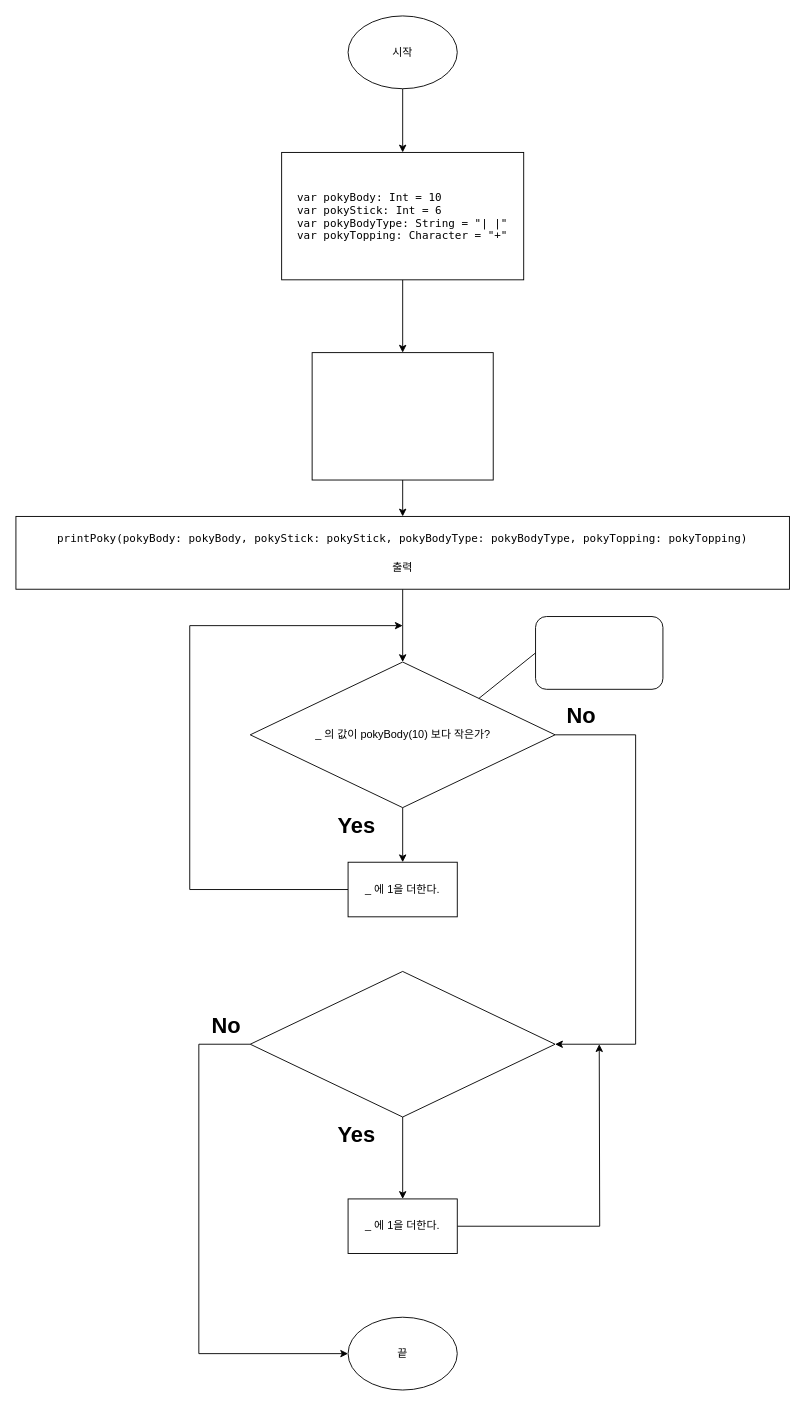
The diagram is 805 pixels wide and 1406 high, and some of its shapes have lost their labels. The centre of each missing label's shape, as x and y in pixels:
<정보> 길이: 10 몸통: 6 토핑: "| |" 막대길이: "+" 출력: point (402, 416)
_ 의 값이 pokyStick(6) 보다 작은가?: point (402, 1044)
ex) pokyBody = 10 10회 출력: point (599, 652)
